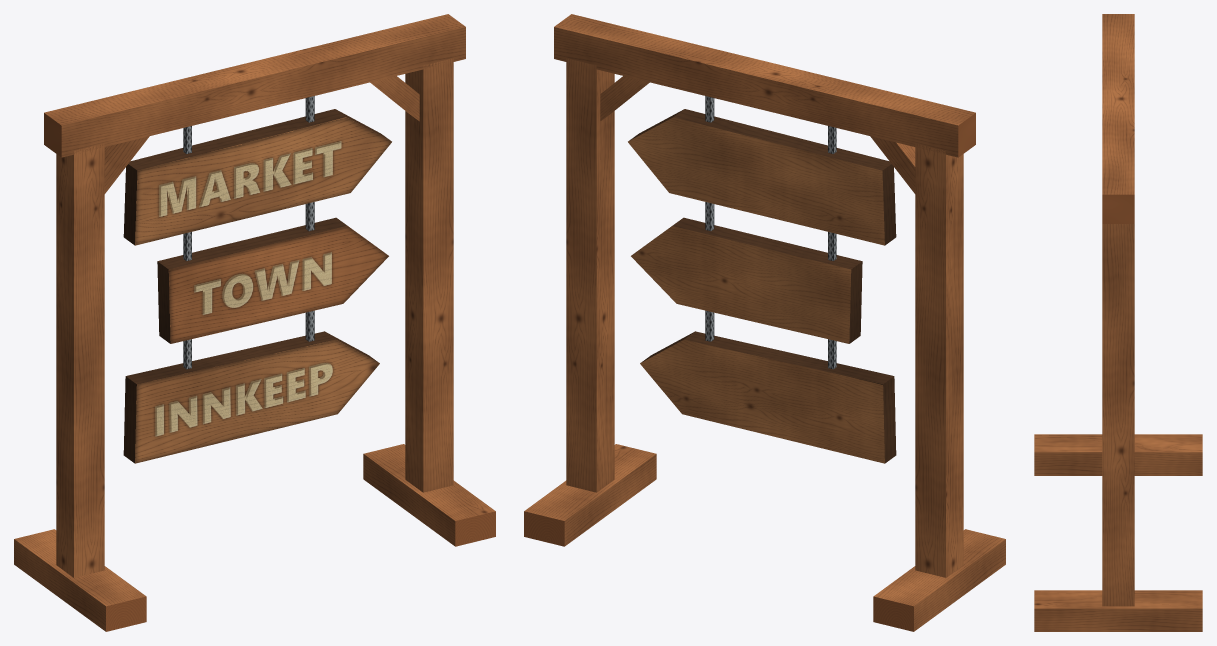
File: FMS_Deco_Signs_Hanging.fbx
The picture shows the model from 3 angles, left to right: view 1: azimuth 30°, elevation 25°; view 2: azimuth 150°, elevation 25°; view 3: azimuth 270°, elevation 25°; orthographic projection. The views are drawn at different scales.
Visible parts, largest first — view 1: item_stalls_signs_hanging; view 2: item_stalls_signs_hanging; view 3: item_stalls_signs_hanging.
Part boxes in pixels (x1,y1,x2,y2): item_stalls_signs_hanging: (14,14,495,631); item_stalls_signs_hanging: (524,14,1005,631); item_stalls_signs_hanging: (1034,14,1202,631).
Bounding box in the file's own units: 0.66 × 0.75 × 0.26.
Materials: 1 (1 with a texture image).
